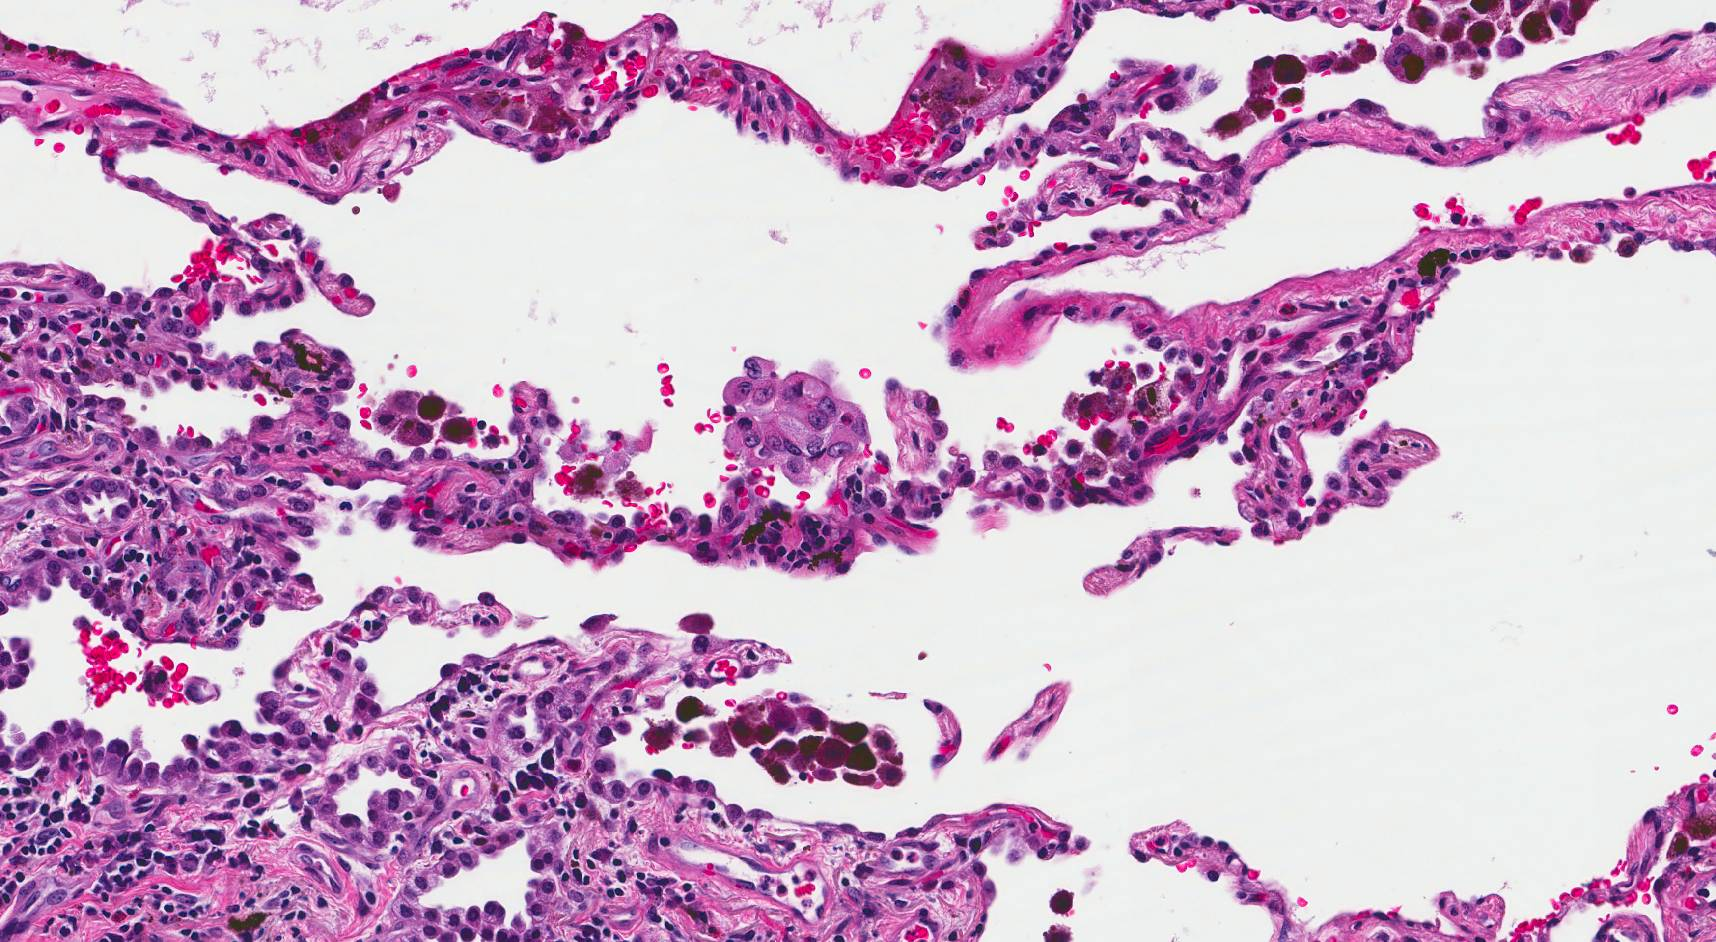stas: (713, 349, 873, 483)
